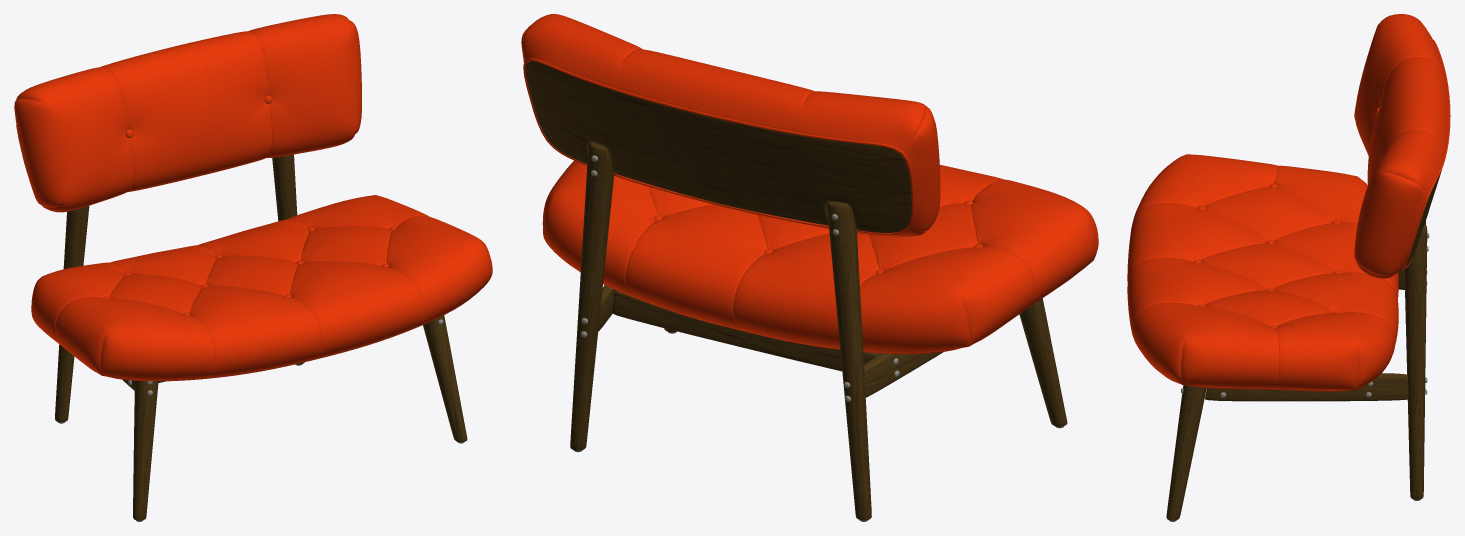
File: sheenchair.glb
3 renders of one model, left to right at view 1: azimuth 30°, elevation 25°; view 2: azimuth 150°, elevation 25°; view 3: azimuth 270°, elevation 25°, orthographic. The views are drawn at different scales.
Parts seen in each view (by area): view 1: SheenChair_fabric, SheenChair_wood; view 2: SheenChair_fabric, SheenChair_wood; view 3: SheenChair_fabric, SheenChair_wood.
Part boxes in pixels (box(x1,y1,x2,y2)): SheenChair_fabric: box(14, 14, 492, 381); SheenChair_wood: box(55, 154, 467, 520); SheenChair_fabric: box(521, 14, 1098, 354); SheenChair_wood: box(525, 61, 1067, 520); SheenChair_fabric: box(1127, 14, 1450, 391); SheenChair_wood: box(1166, 170, 1441, 520).
Bounding box in the file's own units: 0.8266 × 0.6863 × 0.5702.
Materials: 4 (3 with a texture image).
